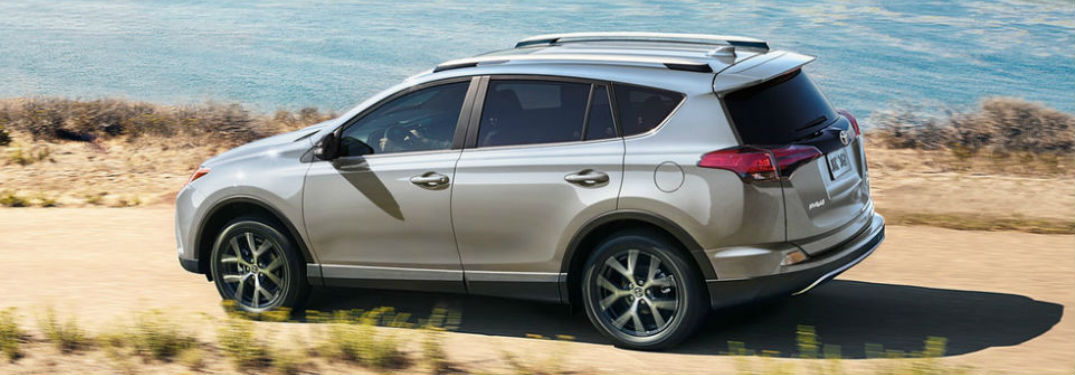Toyota RAV-4: (174, 31, 885, 352)
